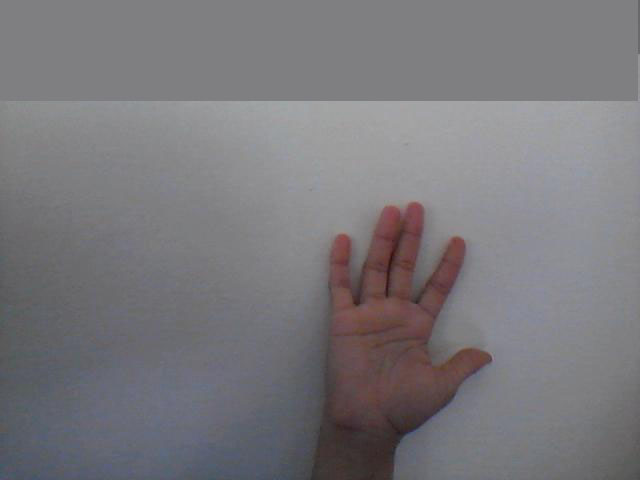hand: (320, 192, 506, 428)
